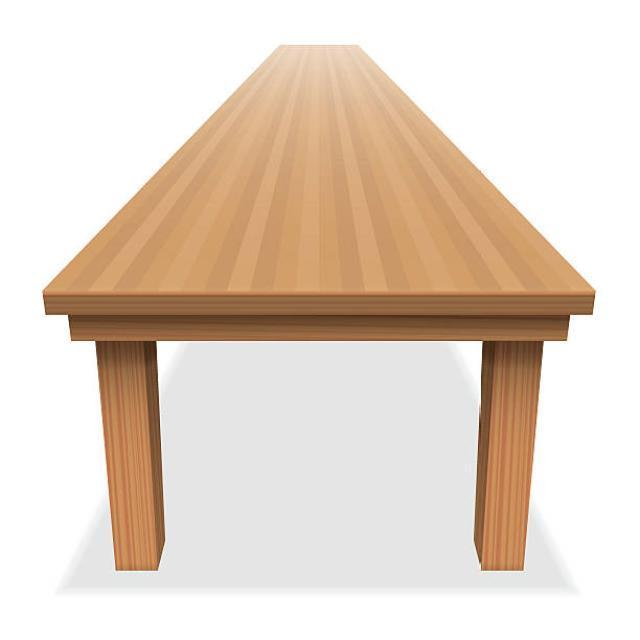table: (42, 42, 596, 572)
